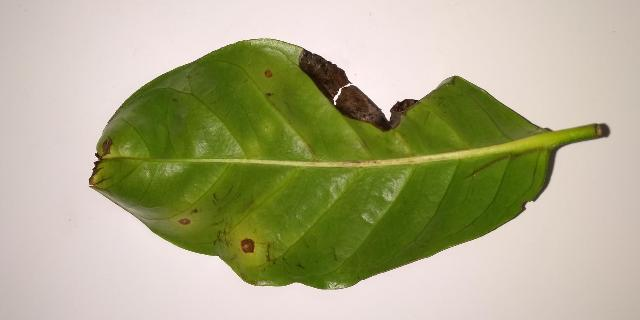rust: (299, 49, 420, 131), (89, 138, 112, 190), (240, 238, 255, 253), (178, 218, 191, 225), (264, 70, 272, 78)
